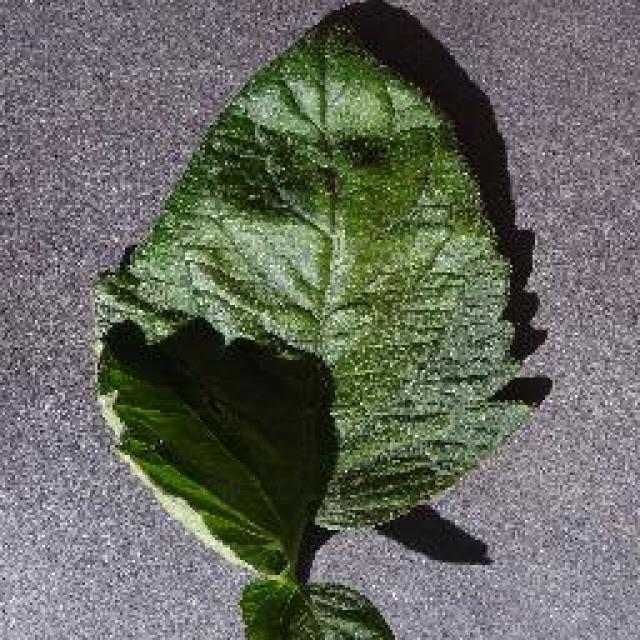Tomato healthy leaf: (85, 30, 537, 575)
